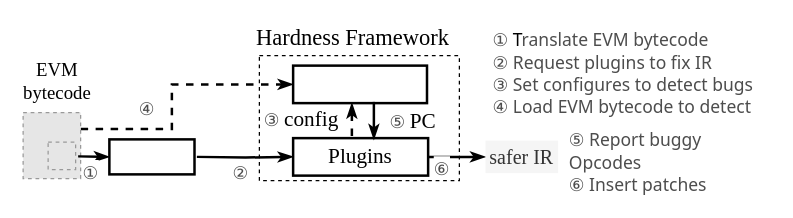
Image size: 793x218. Some labels were removed from this diagram. Grey dashed boxes stand in for pictures. The centre of each missing label's shape, as x and y in pixels:
ExecDetectors: point (359, 84)
Lifter: point (151, 156)
